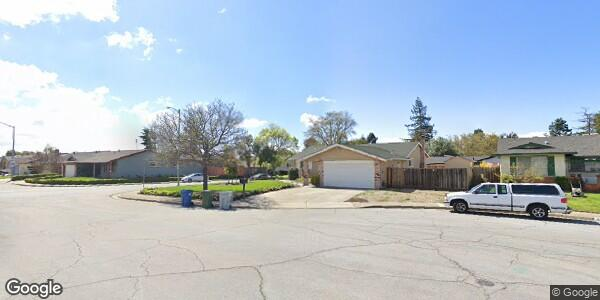Steel_Pole: (163, 103, 182, 189), (1, 120, 17, 181)
